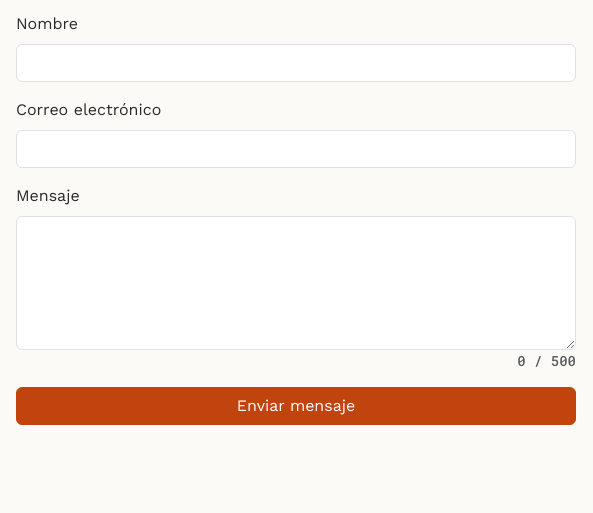
Test: <FormularioContacto /> › muestra errores de validación si se envía vacío
Click the button "Enviar mensaje": click(296, 406) [16,387,576,425]
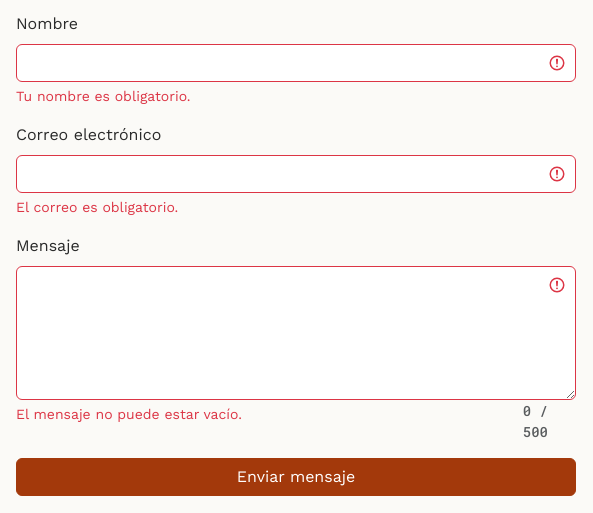
Check: the text "Tu nombre es obligatorio." is shown, box [16,88,190,104]
Check: the text "El correo es obligatorio." is shown, box [16,199,178,215]
Check: the text "El mensaje no puede estar vacío." is shown, box [16,406,242,422]
